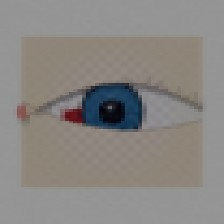hemorrhage_spot: (52, 88, 125, 146)
